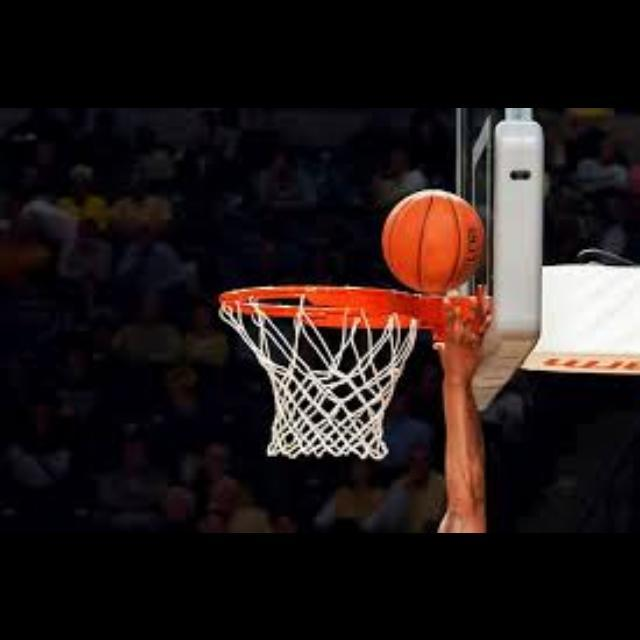basketball: (382, 189, 483, 289)
rim: (218, 284, 416, 458)
